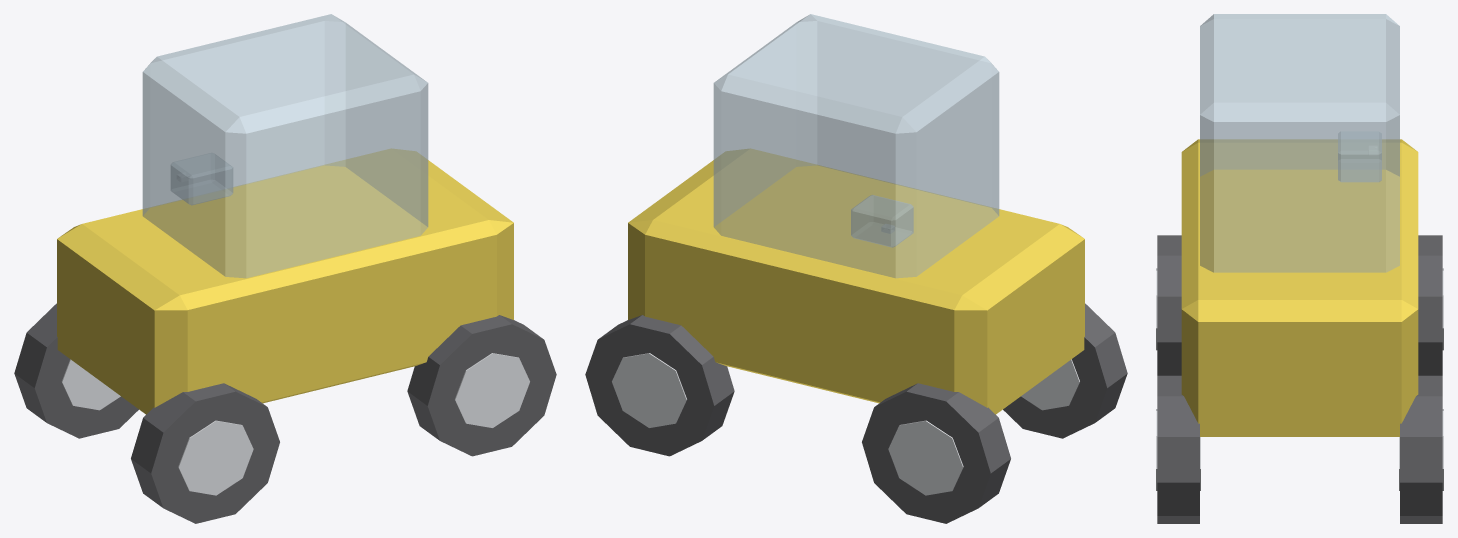
The model's file is b07_tandem_vibratory_road_roller.glb.
The picture shows the model from 3 angles, left to right: view 1: azimuth 30°, elevation 25°; view 2: azimuth 150°, elevation 25°; view 3: azimuth 270°, elevation 25°; orthographic projection. The views are drawn at different scales.
Parts seen in each view (by area): view 1: b07_tandem_vibratory_road_roller; view 2: b07_tandem_vibratory_road_roller; view 3: b07_tandem_vibratory_road_roller.
Boxes of the visible parts, <box> form: b07_tandem_vibratory_road_roller: <box>14,14,556,523</box>; b07_tandem_vibratory_road_roller: <box>585,14,1127,523</box>; b07_tandem_vibratory_road_roller: <box>1156,14,1443,523</box>.
Bounding box in the file's own units: 3.34 × 2.91 × 1.97.
